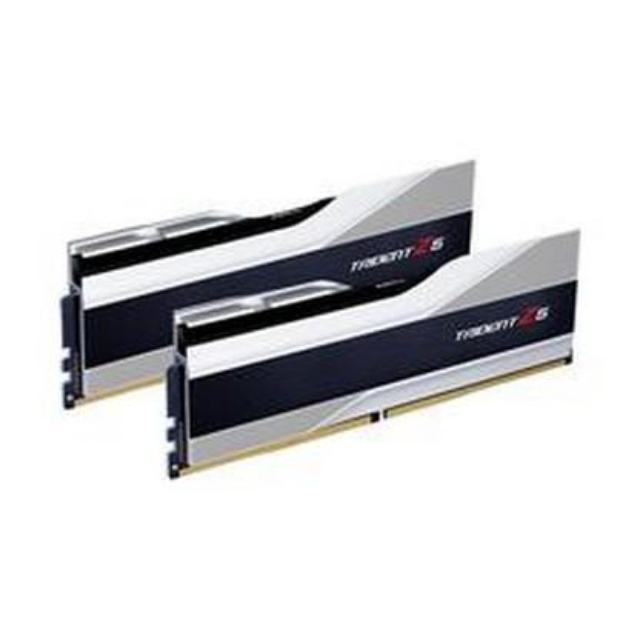RAM: (52, 160, 584, 485)
